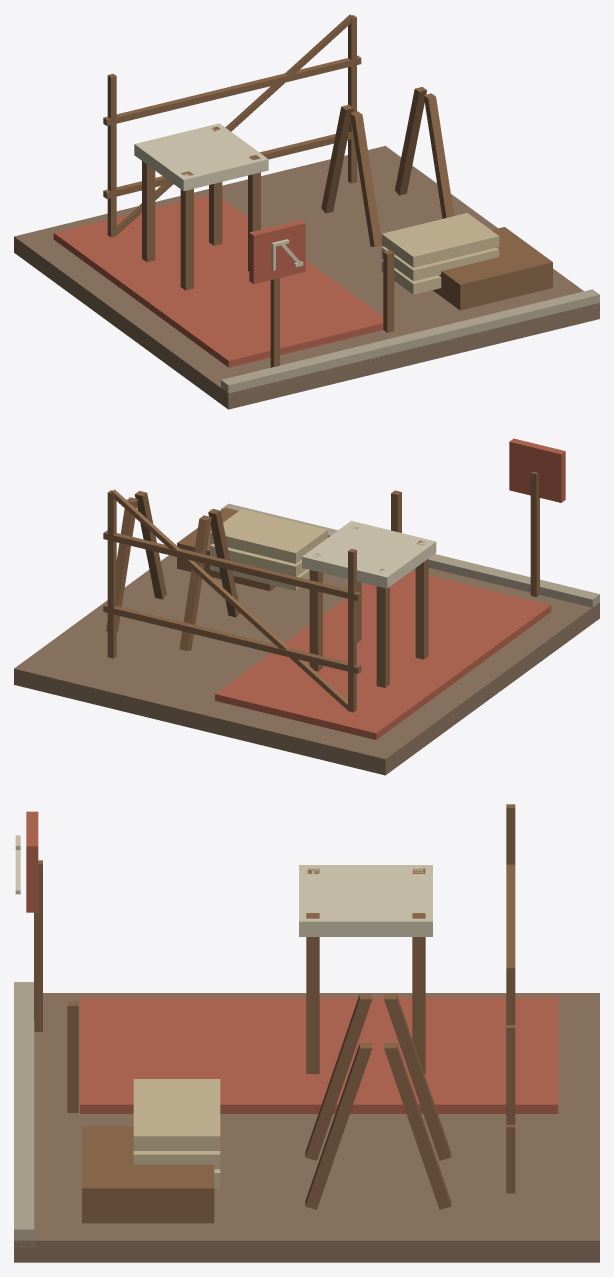
The model's file is playground-sunrise-half-built.glb.
3 renders of one model, top to bottom at view 1: azimuth 30°, elevation 25°; view 2: azimuth 150°, elevation 25°; view 3: azimuth 270°, elevation 25°, orthographic. The views are drawn at different scales.
Visible parts, largest first — view 1: playground; view 2: playground; view 3: playground.
Part boxes in pixels (x1,y1,x2,y2): playground: (14, 14, 599, 409); playground: (14, 438, 599, 775); playground: (14, 804, 599, 1262).
Size of the model in its own units: 2.88 by 1.38 by 2.88.
